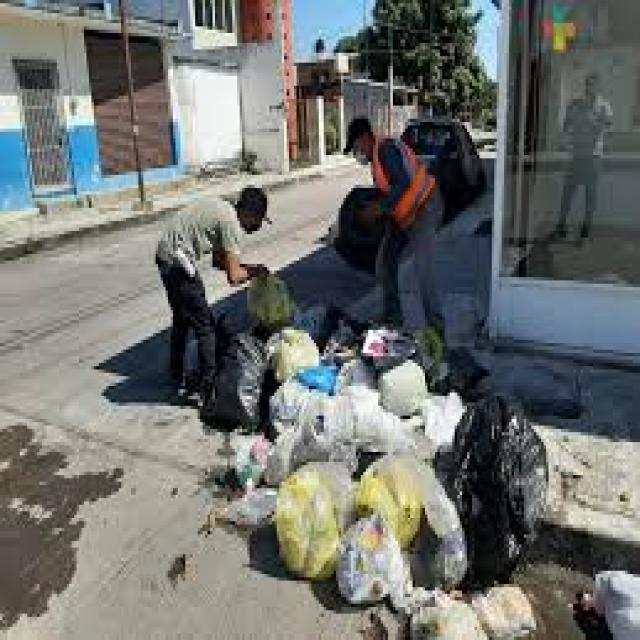garbage: (206, 290, 548, 616)
